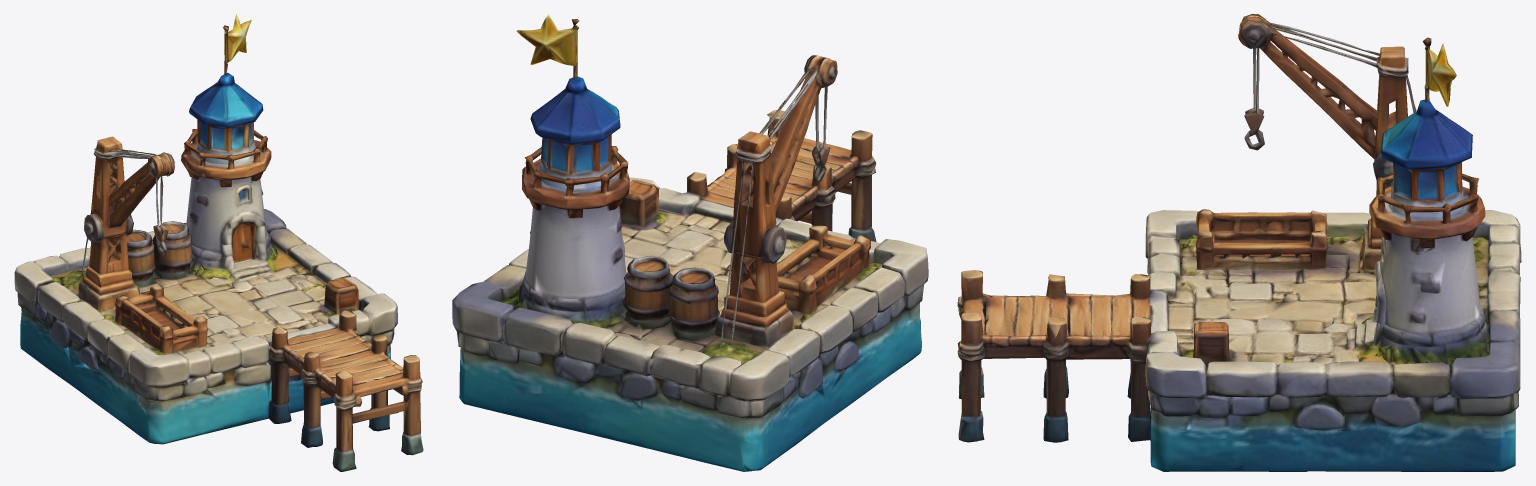
File: port-mid.glb
3 renders of one model, left to right at view 1: azimuth 30°, elevation 25°; view 2: azimuth 150°, elevation 25°; view 3: azimuth 270°, elevation 25°, orthographic. The views are drawn at different scales.
Visible parts, largest first — view 1: tripo_node_9a656189-0ec0-41cd-8d83-53278e418af4; view 2: tripo_node_9a656189-0ec0-41cd-8d83-53278e418af4; view 3: tripo_node_9a656189-0ec0-41cd-8d83-53278e418af4.
Part boxes in pixels (x1,y1,x2,y2): tripo_node_9a656189-0ec0-41cd-8d83-53278e418af4: (14, 14, 423, 471); tripo_node_9a656189-0ec0-41cd-8d83-53278e418af4: (452, 14, 928, 471); tripo_node_9a656189-0ec0-41cd-8d83-53278e418af4: (957, 14, 1521, 471).
Size of the model in its own units: 0.6763 by 0.776 by 0.9983.
Materials: 1 (1 with a texture image).
